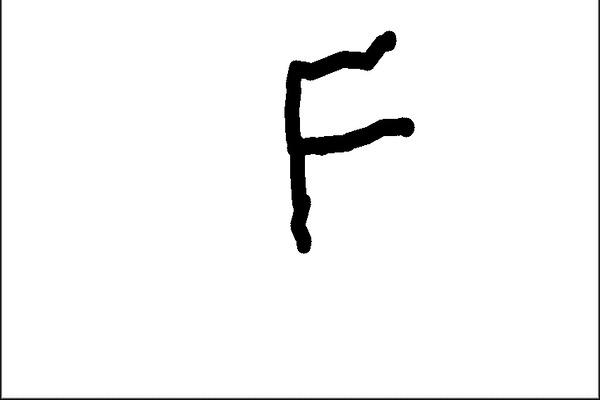F: (277, 27, 418, 256)
